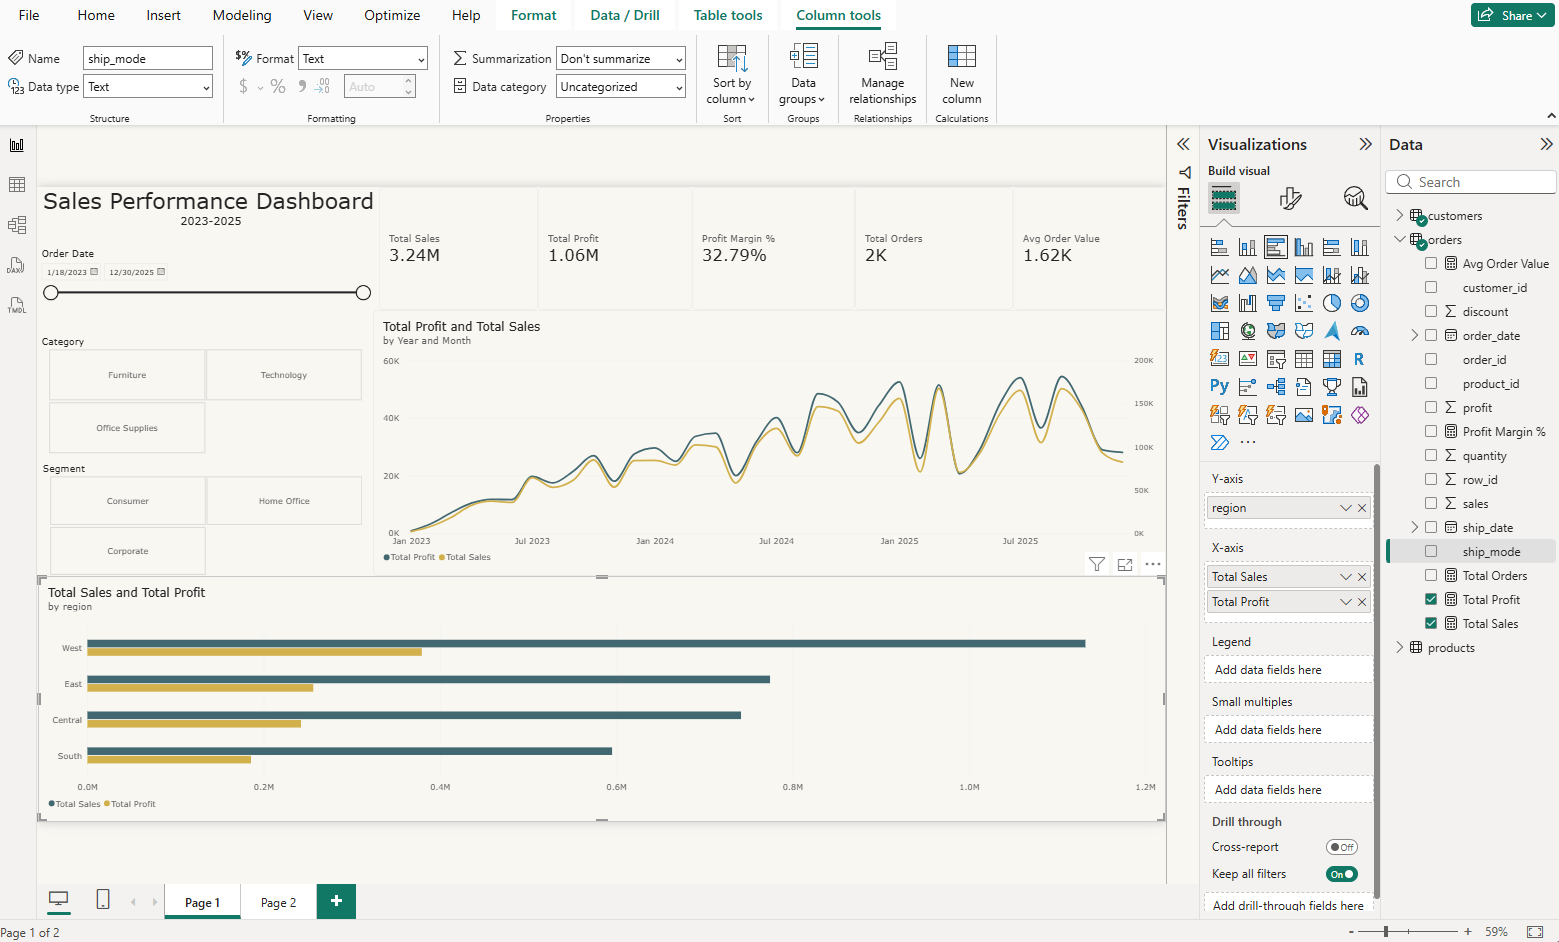

The page's visual inventory and layout, read from the dashboard file:
{"tool":"powerbi","page":{"name":"Page 1","canvas":[1920,1080],"ordinal":0},"visuals":[{"type":"cardVisual","fields":{"Data":["orders.Total Profit"]},"box":[852,0,261.9,209.2],"z":0},{"type":"cardVisual","fields":{"Data":["orders.Profit Margin %"]},"box":[1113.9,0,277.2,209.2],"z":1000},{"type":"cardVisual","fields":{"Data":["orders.Total Orders"]},"box":[1391.1,0,268.7,209.2],"z":2000},{"type":"cardVisual","fields":{"Data":["orders.Avg Order Value"]},"box":[1659.8,0,260.2,209.2],"z":3000},{"type":"lineChart","title":"Monthly Sales and Profit Trend","fields":{"Y":["orders.Total Profit"],"Y2":["orders.Total Sales"],"Category":["orders.order_date.Variation.Date Hierarchy.Year","orders.order_date.Variation.Date Hierarchy.Month"]},"box":[569.7,209.2,1350.3,423.5],"z":4000},{"type":"clusteredBarChart","fields":{"Category":["customers.region"],"Y":["orders.Total Sales","orders.Total Profit"]},"box":[0,632.6,1920,447.3],"z":5000},{"type":"slicer","title":"Order Date","fields":{"Values":["orders.order_date"]},"box":[0,90.1,569.7,151.4],"z":6000},{"type":"slicer","fields":{"Values":["customers.segment"]},"box":[0,440.5,569.7,192.2],"z":7000},{"type":"slicer","fields":{"Values":["products.category"]},"box":[0,241.5,569.7,199],"z":8000},{"type":"textbox","box":[0,0,569.7,90.1],"z":9000},{"type":"cardVisual","fields":{"Data":["orders.Total Sales"]},"box":[569.7,0,282.3,209.2],"z":10000}]}

Visuals, with their boxes on the page's 1920x1080 design canvas (x1, y1, x2, y2). These are canvas units, not pixel positions in the 1559x942 screenshot, which may show the page scaled, cropped or inside an application window:
cardVisual - orders.Total Profit: left=852, top=0, right=1114, bottom=209
cardVisual - orders.Profit Margin %: left=1114, top=0, right=1391, bottom=209
cardVisual - orders.Total Orders: left=1391, top=0, right=1660, bottom=209
cardVisual - orders.Avg Order Value: left=1660, top=0, right=1920, bottom=209
"Monthly Sales and Profit Trend" lineChart: left=570, top=209, right=1920, bottom=633
clusteredBarChart - customers.region x orders.Total Sales: left=0, top=633, right=1920, bottom=1080
"Order Date" slicer: left=0, top=90, right=570, bottom=242
slicer - customers.segment: left=0, top=440, right=570, bottom=633
slicer - products.category: left=0, top=242, right=570, bottom=440
textbox: left=0, top=0, right=570, bottom=90
cardVisual - orders.Total Sales: left=570, top=0, right=852, bottom=209
